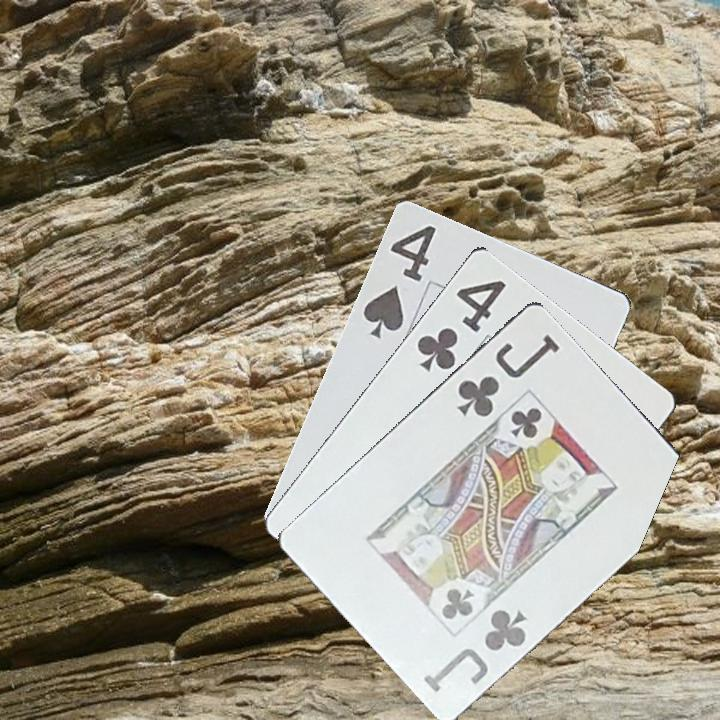4c: (413, 275, 509, 375)
4s: (358, 221, 439, 340)
Jc: (419, 604, 531, 695), (453, 329, 563, 420)
